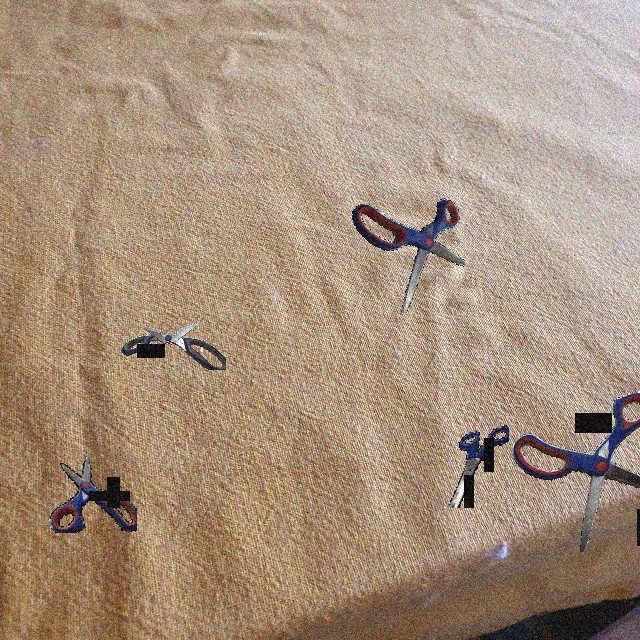scissors: (512, 391, 640, 552), (352, 198, 465, 313), (49, 457, 137, 533), (448, 425, 509, 508), (121, 322, 226, 370)
